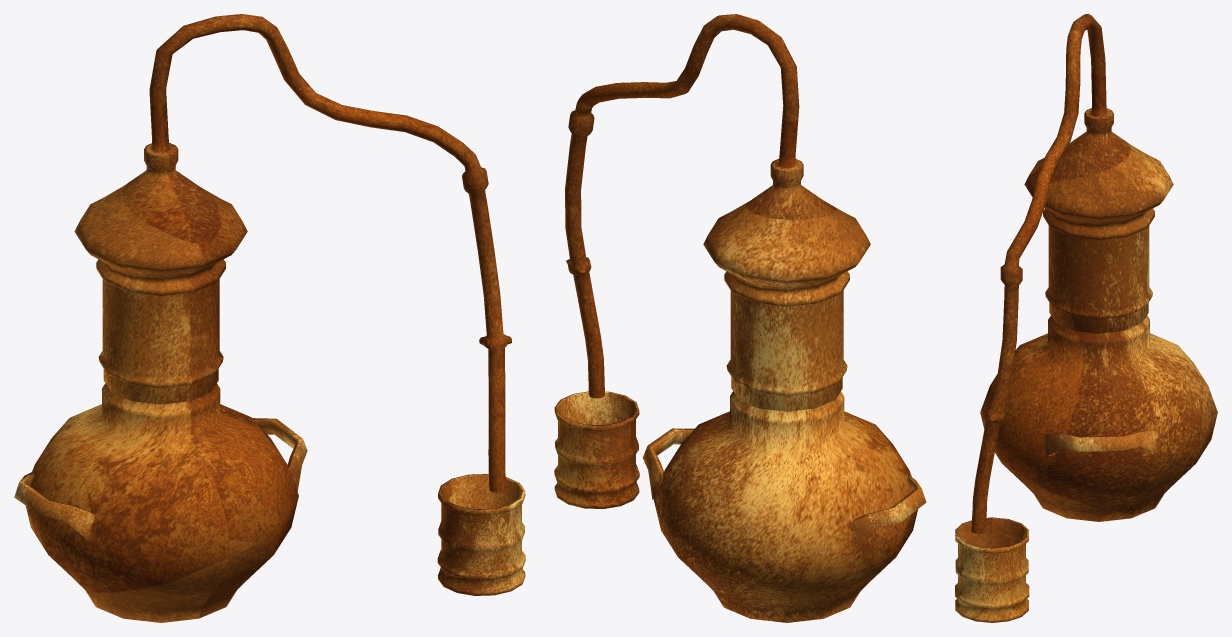
The model's file is Alambic.fbx.
3 views of the same model, side by side, from view 1: azimuth 30°, elevation 25°; view 2: azimuth 150°, elevation 25°; view 3: azimuth 270°, elevation 25° (orthographic). The views are drawn at different scales.
Parts seen in each view (by area): view 1: pCube12; view 2: pCube12; view 3: pCube12.
Boxes of the visible parts, <box> form: pCube12: <box>14,14,525,622</box>; pCube12: <box>554,14,926,622</box>; pCube12: <box>955,14,1217,622</box>.
Bounding box in the file's own units: 1.39 × 1.78 × 0.8558.
